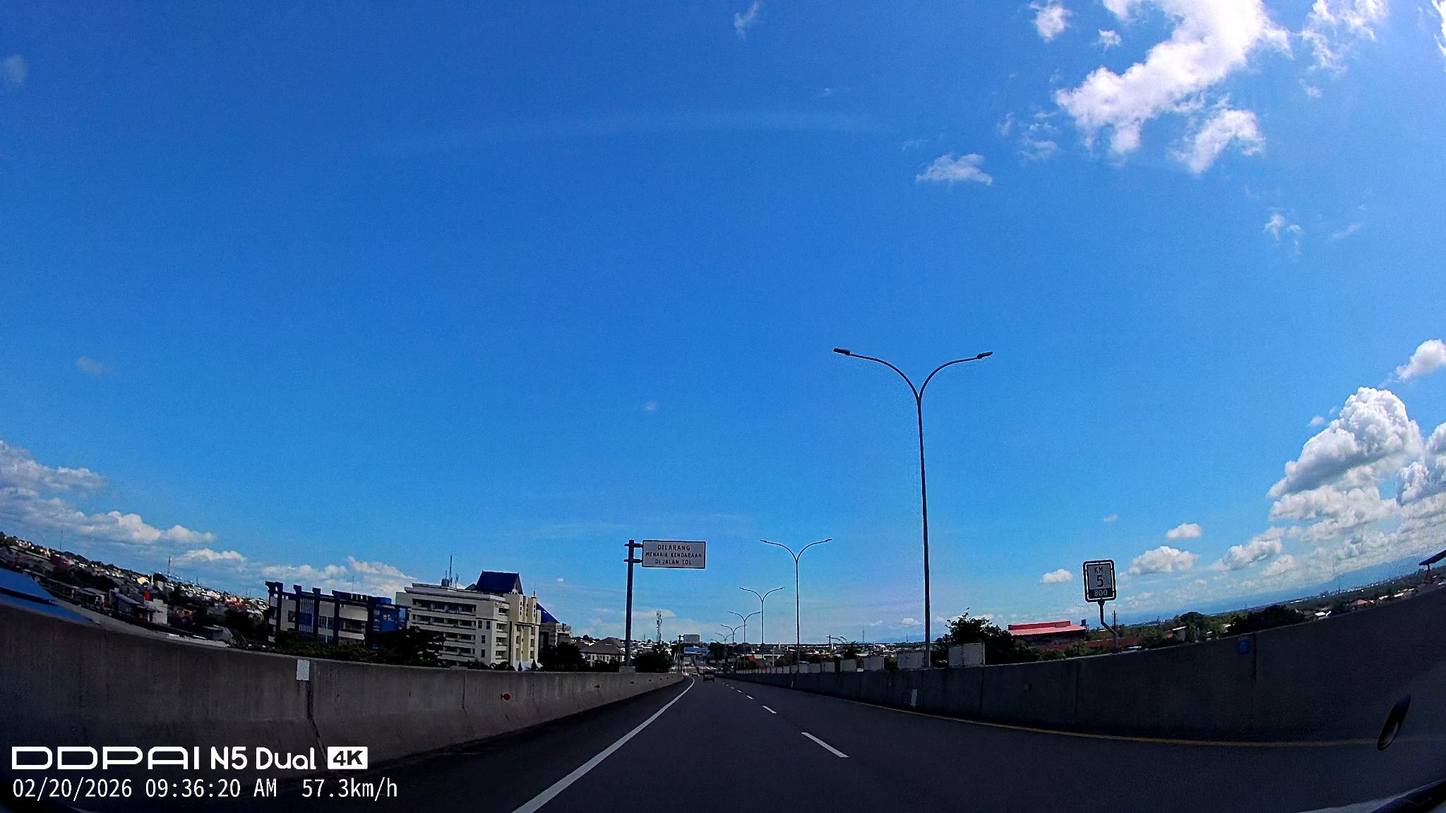rambu_teks: (642, 539, 706, 572)
